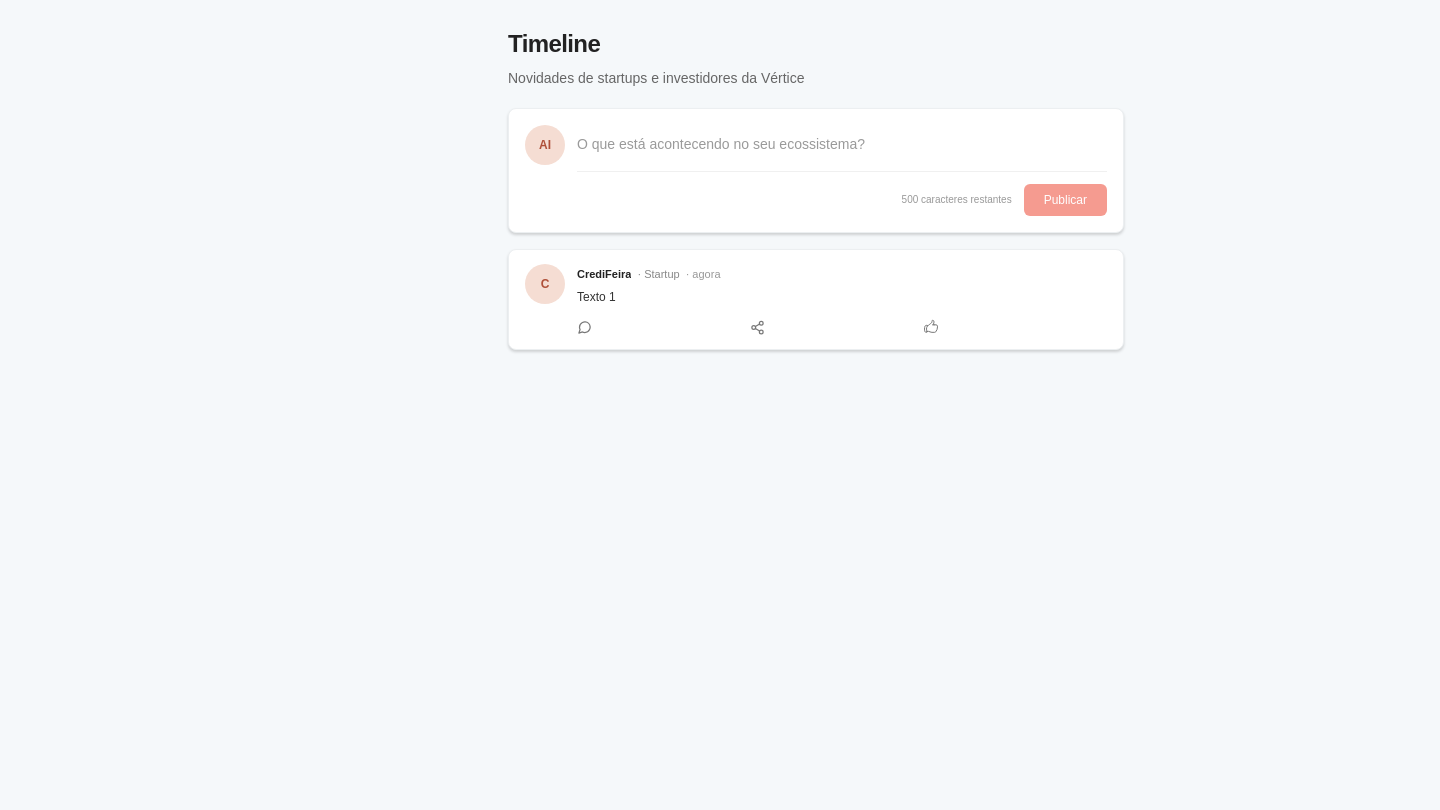
Test: interações › compartilha (ícone próprio) e também com comentário
Click the button named "Compartilhar (0 compartilhamentos)" at (760, 327), box [742,314,779,341]
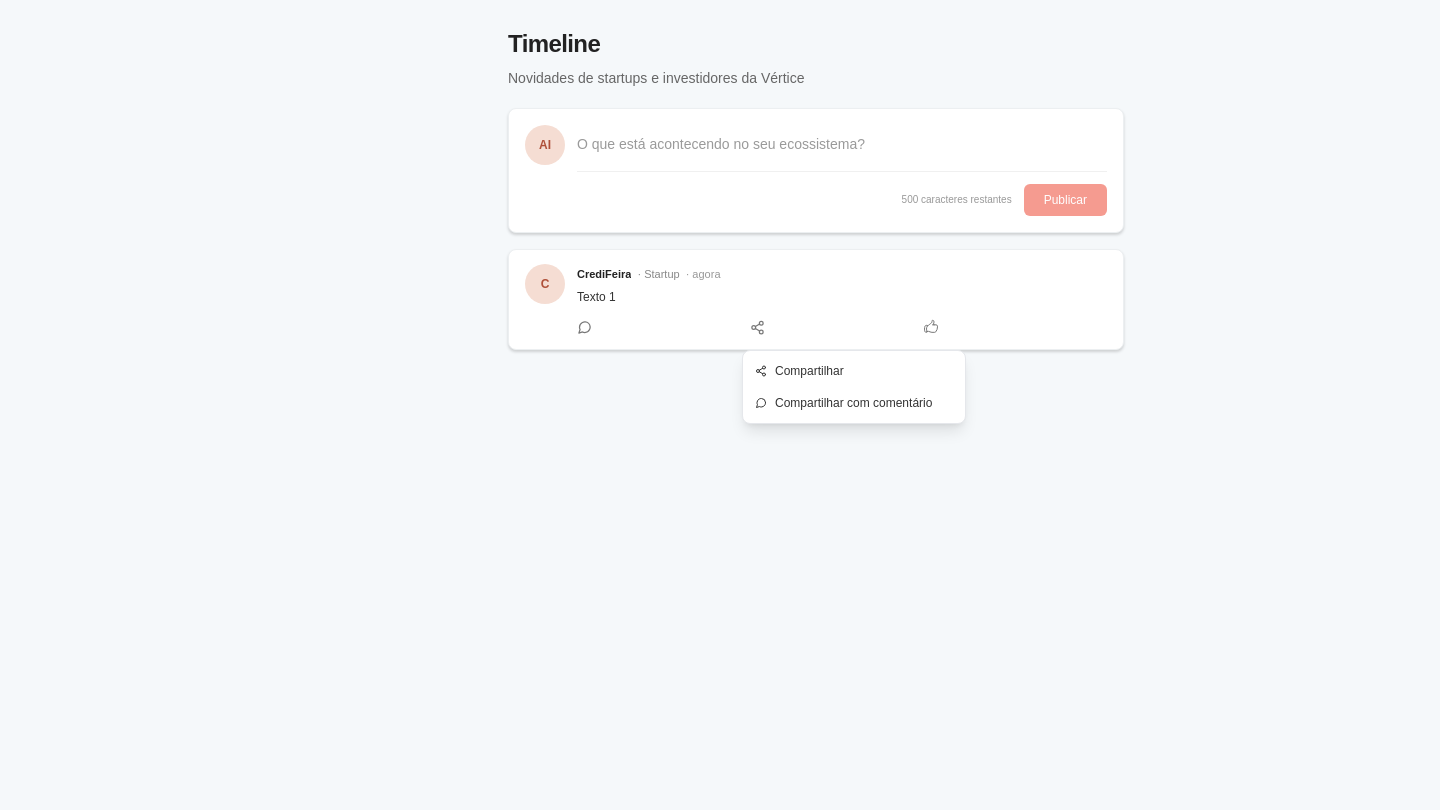
Click the menu item "Compartilhar" at (854, 371), box [743,355,965,387]
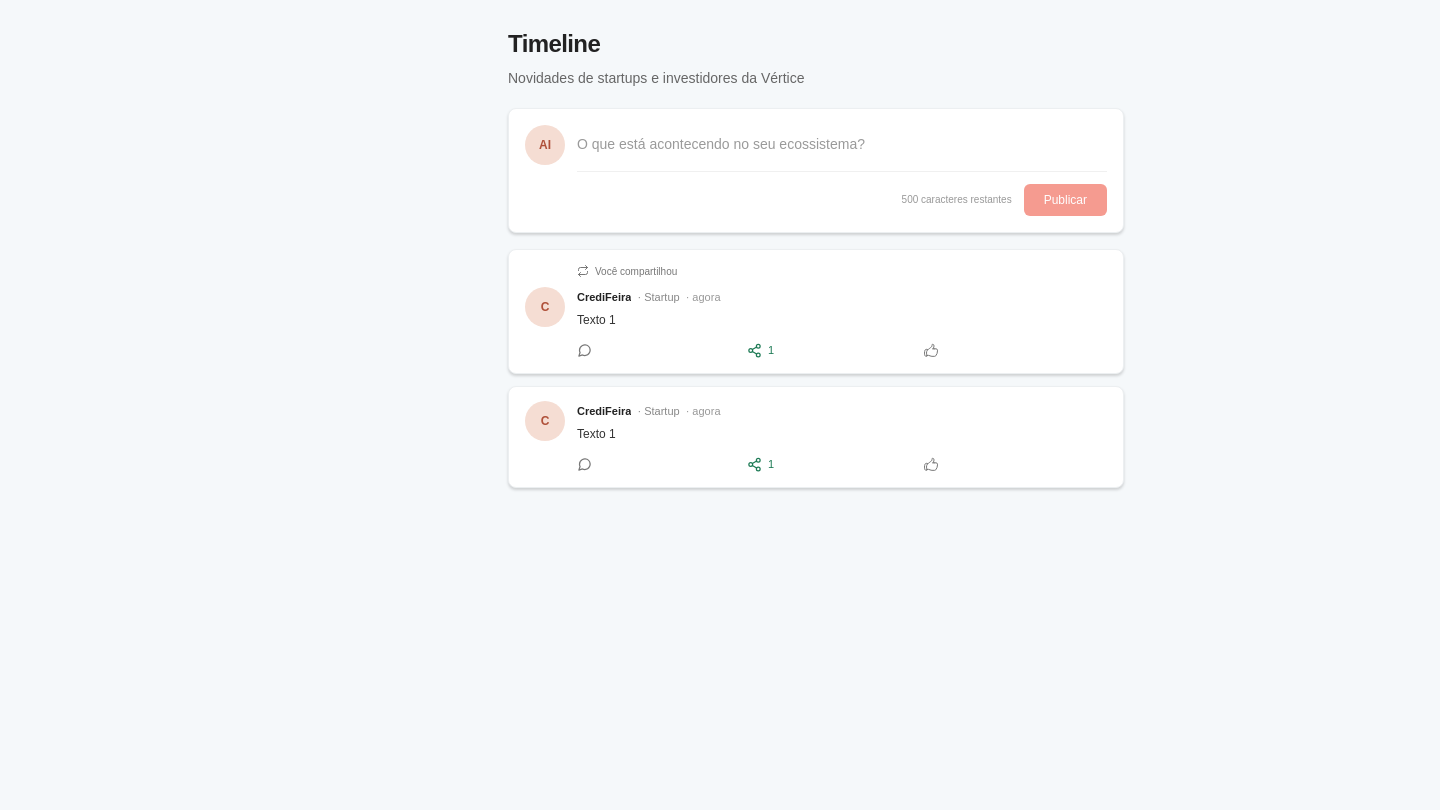
Result: the text "Você compartilhou" is shown at [577,265,677,277]
Click the button named "Compartilhar (1 compartilhamentos)" at (760, 351), box [739,336,782,365]
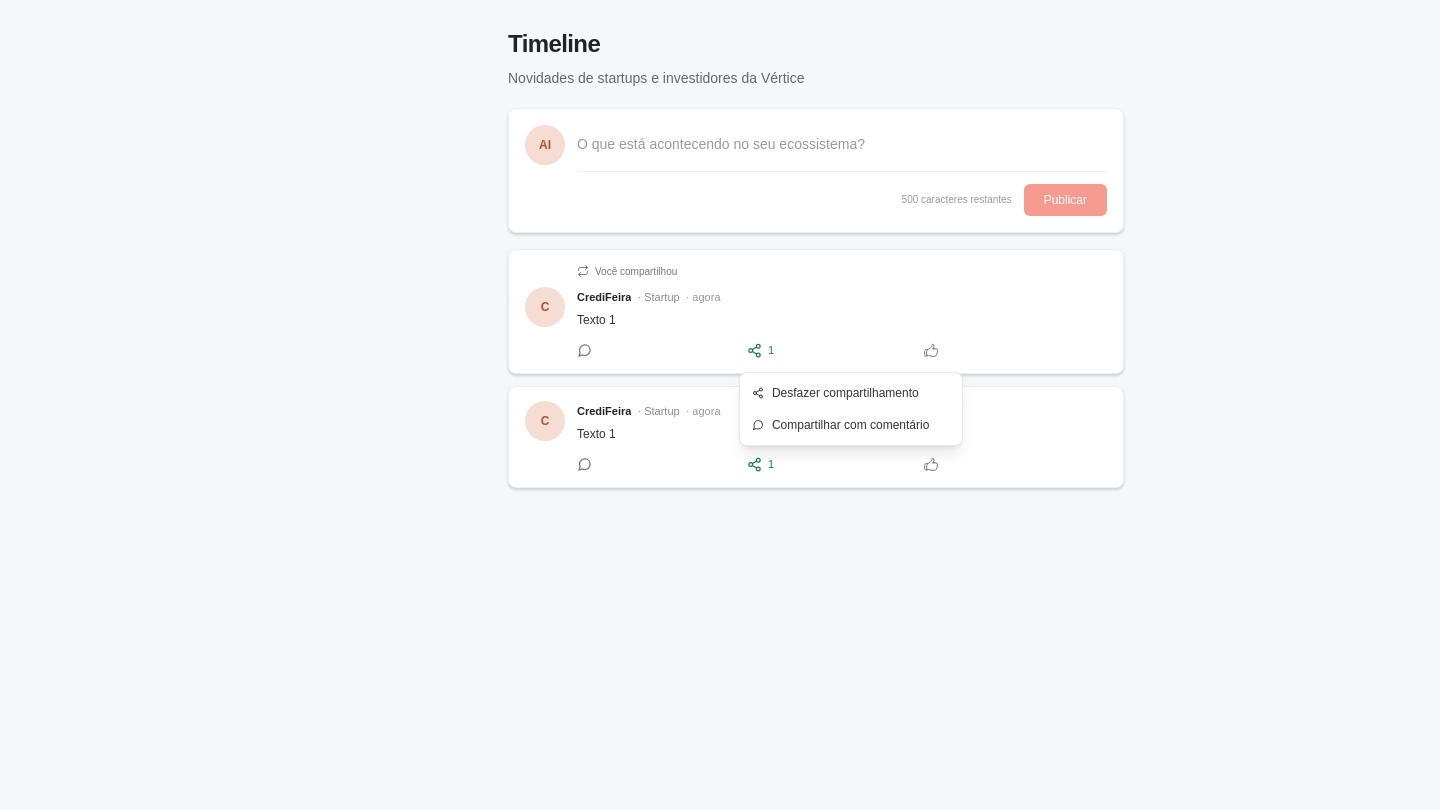
Click the menu item "Compartilhar com comentário" at (851, 425), box [740,409,962,441]
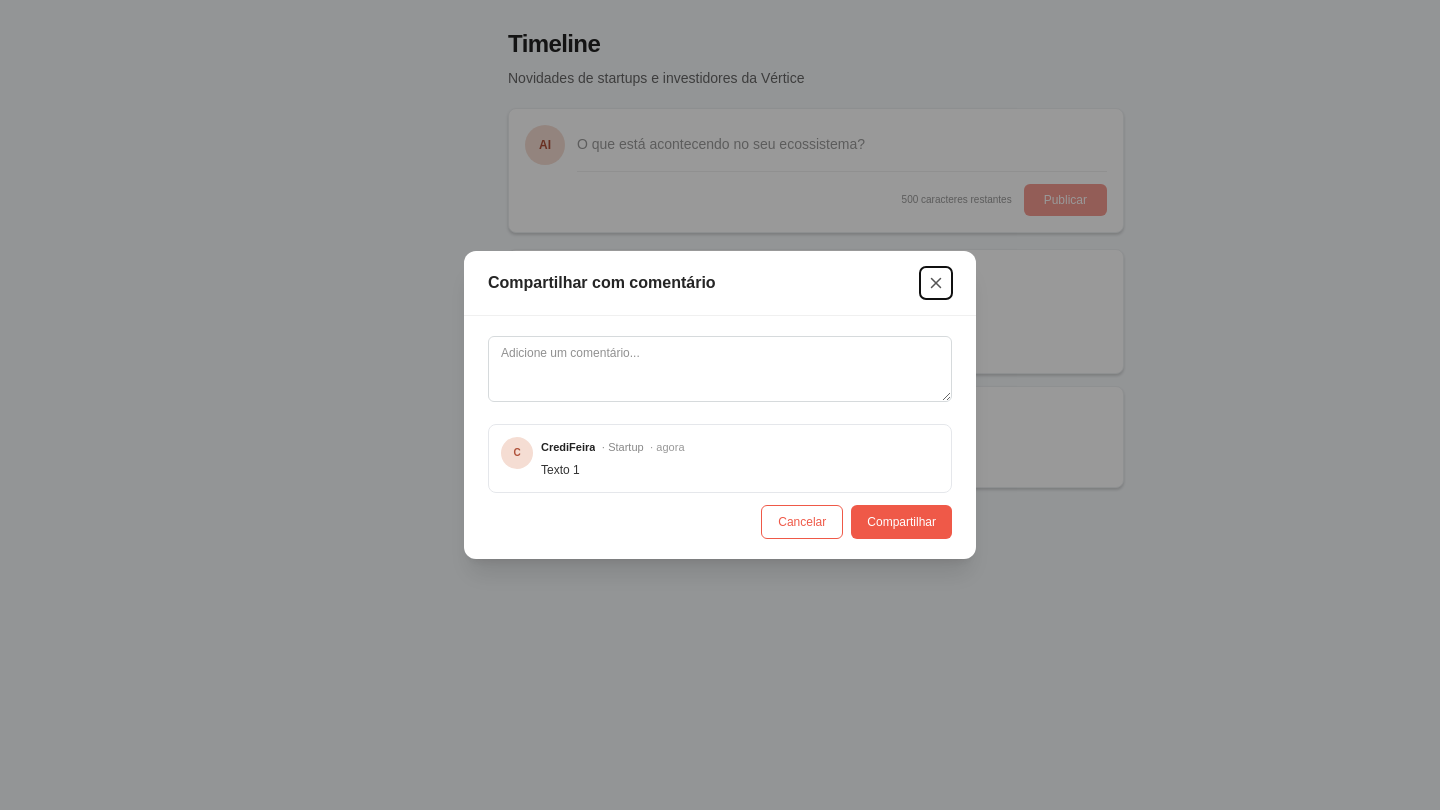
Type "Vale olhar" into the text box named "Seu comentário" at (720, 369), box [488,336,952,402]
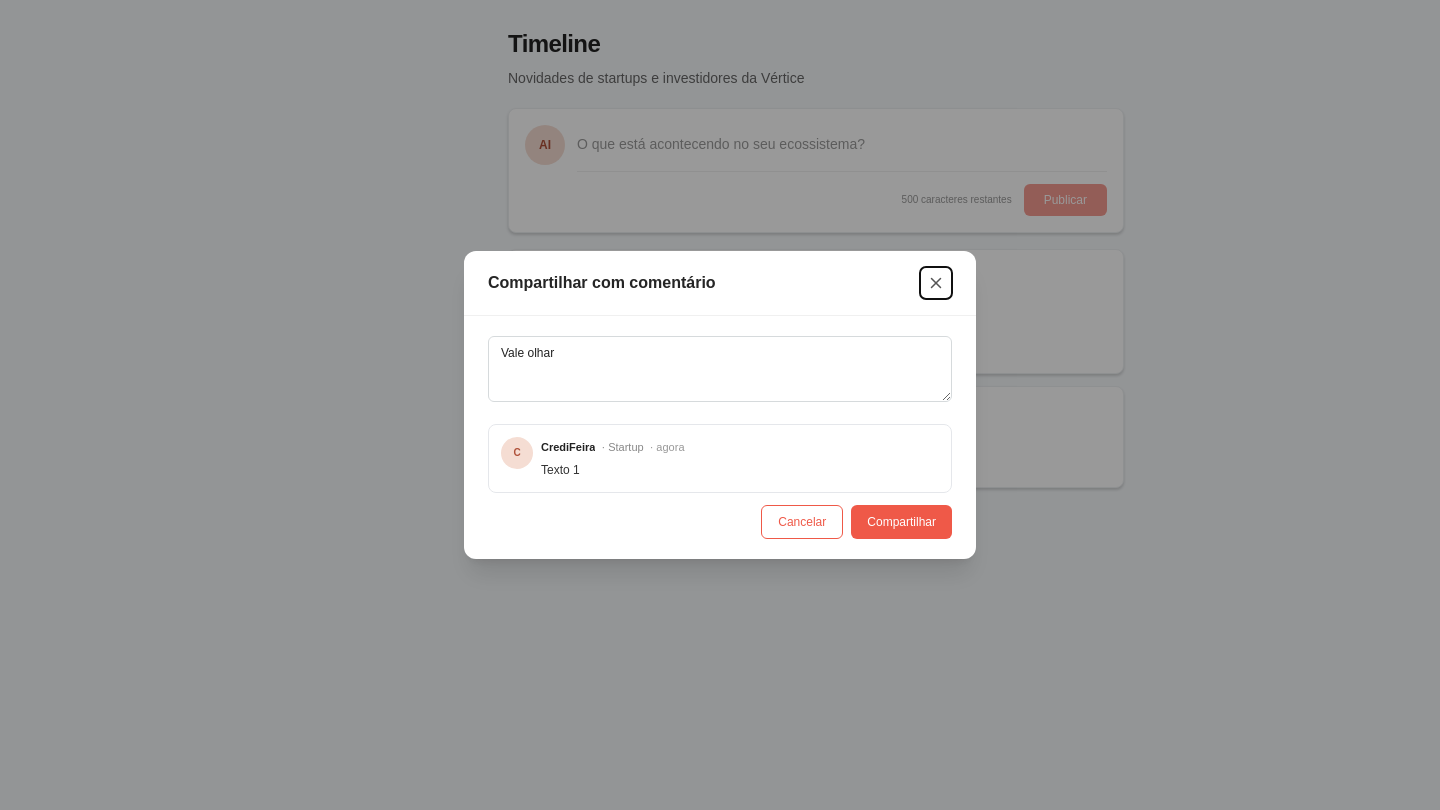
Click the button "Compartilhar" at (902, 522), box [851,505,952,539]
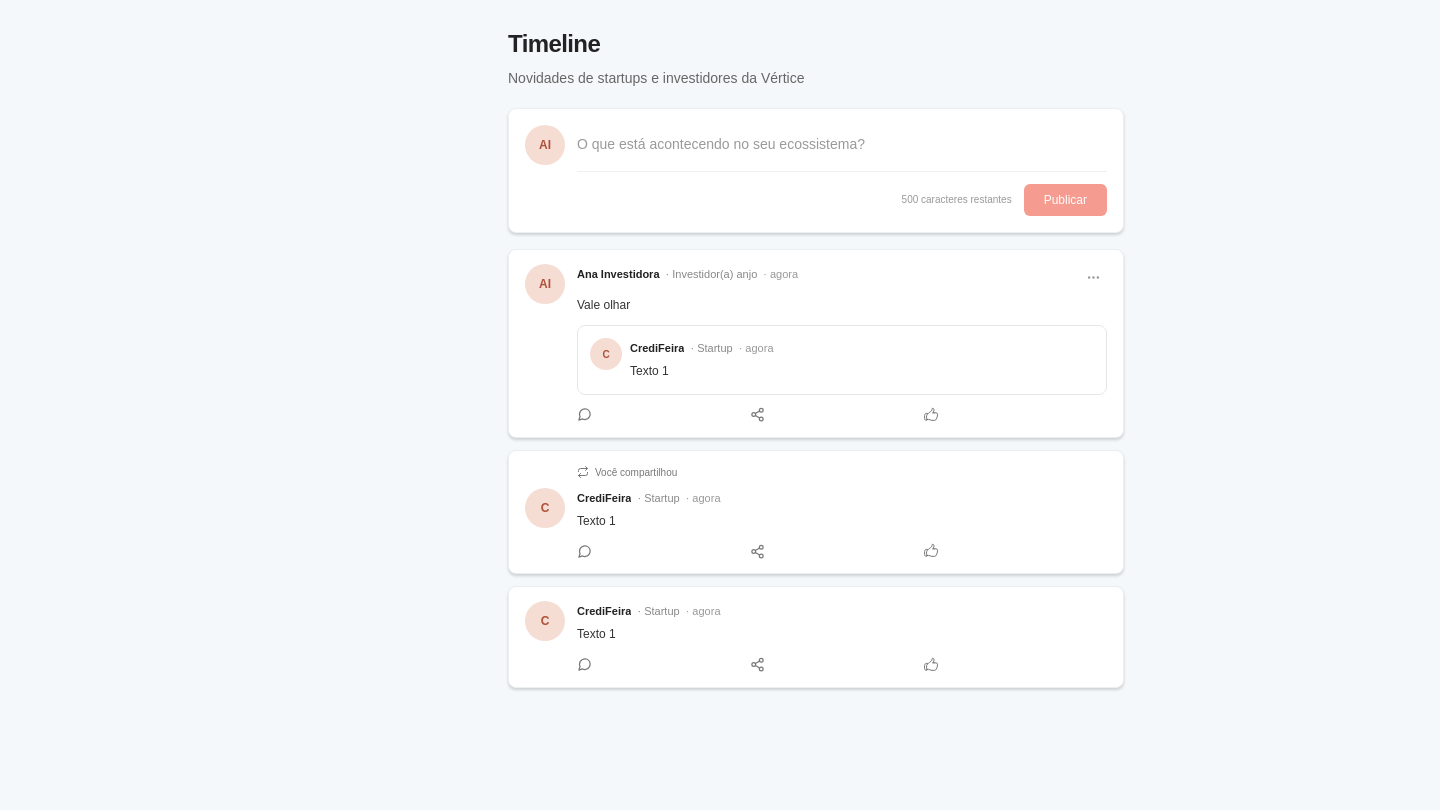
Result: the text "Vale olhar" is shown at [577,298,630,312]
